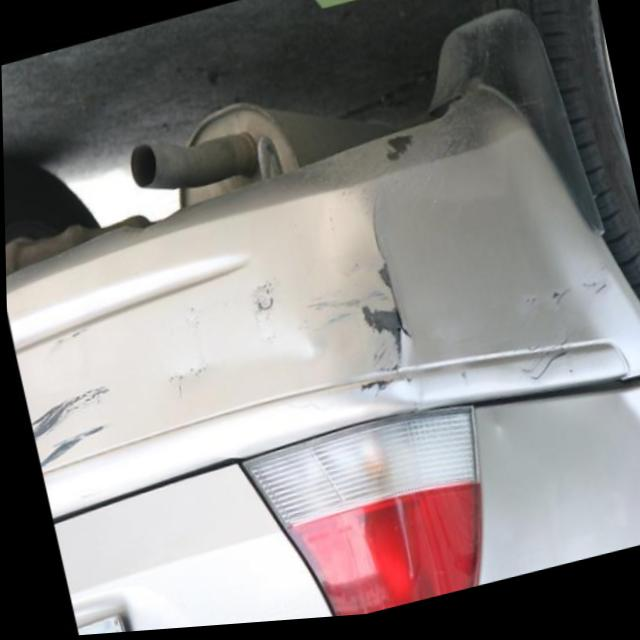Scratch: (325, 251, 416, 398), (26, 386, 120, 467), (373, 133, 424, 173)
